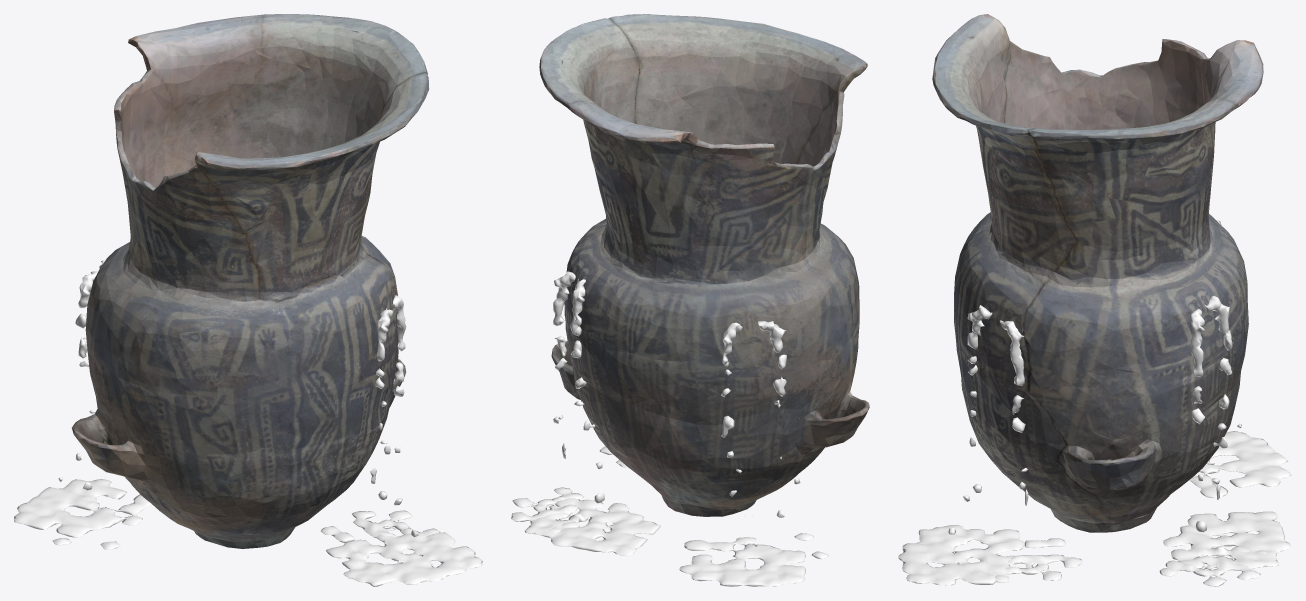
The picture shows the model from 3 angles, left to right: view 1: azimuth 30°, elevation 25°; view 2: azimuth 150°, elevation 25°; view 3: azimuth 270°, elevation 25°; orthographic projection. The views are drawn at different scales.
Visible parts, largest first — view 1: MA0337.001, Cube.003, Cube.001, Cube, Cube.005; view 2: MA0337.001, Cube.002, Cube.001, Cube.006, Cube.005; view 3: MA0337.001, Cube.003, Cube.002, Cube.001, Cube, Cube.006.
Boxes of the visible parts, <box> form: MA0337.001: <box>72,14,428,548</box>; Cube.003: <box>326,308,482,586</box>; Cube.001: <box>14,259,151,537</box>; Cube: <box>321,295,440,542</box>; Cube.005: <box>52,271,119,549</box>; MA0337.001: <box>539,14,869,516</box>; Cube.002: <box>525,279,660,556</box>; Cube.001: <box>679,322,805,586</box>; Cube.006: <box>511,271,583,532</box>; Cube.005: <box>757,321,828,559</box>; MA0337.001: <box>932,14,1263,532</box>; Cube.003: <box>898,305,1023,585</box>; Cube.002: <box>1163,295,1290,569</box>; Cube.001: <box>1189,220,1291,497</box>; Cube: <box>994,320,1082,582</box>; Cube.006: <box>1159,309,1267,586</box>.
Size of the model in its own units: 2.43 by 3.22 by 2.5.
Materials: 2 (1 with a texture image).
